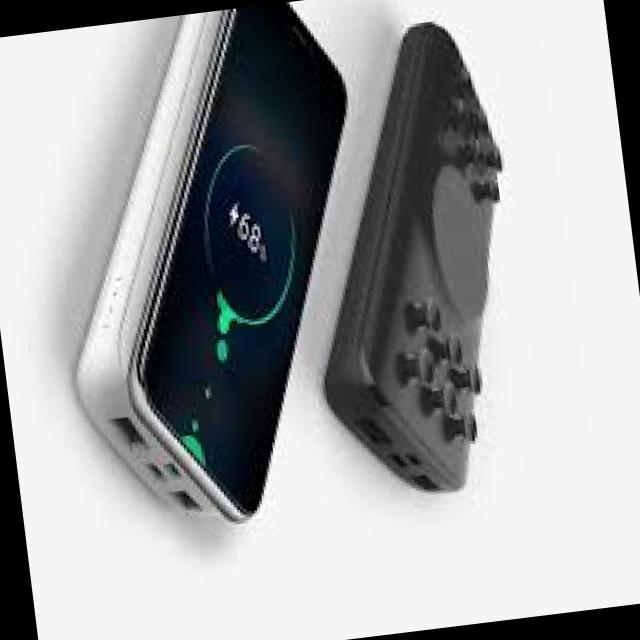power_bank: (28, 9, 283, 542), (280, 19, 544, 503)
